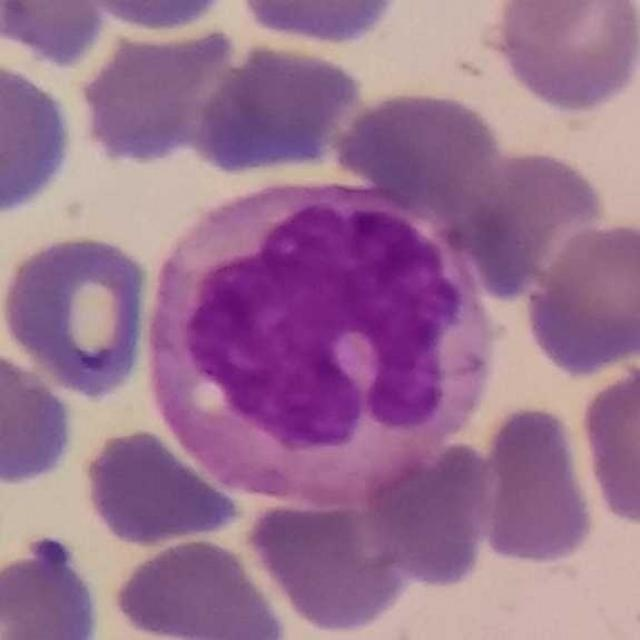Monocyte: (142, 180, 488, 509)
RBC: (240, 481, 417, 638), (0, 228, 156, 403), (188, 39, 370, 181), (459, 148, 612, 309), (329, 84, 506, 214), (358, 433, 498, 591), (473, 401, 601, 571), (76, 423, 247, 550), (104, 533, 294, 640), (518, 214, 640, 379), (83, 32, 239, 160), (483, 0, 640, 117), (0, 52, 79, 223), (0, 528, 105, 640), (0, 342, 78, 491), (575, 351, 640, 528), (228, 0, 409, 49), (0, 0, 112, 69), (54, 0, 243, 33)
